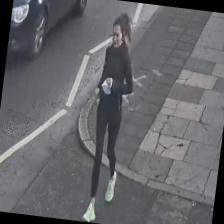person: (80, 10, 142, 222)
